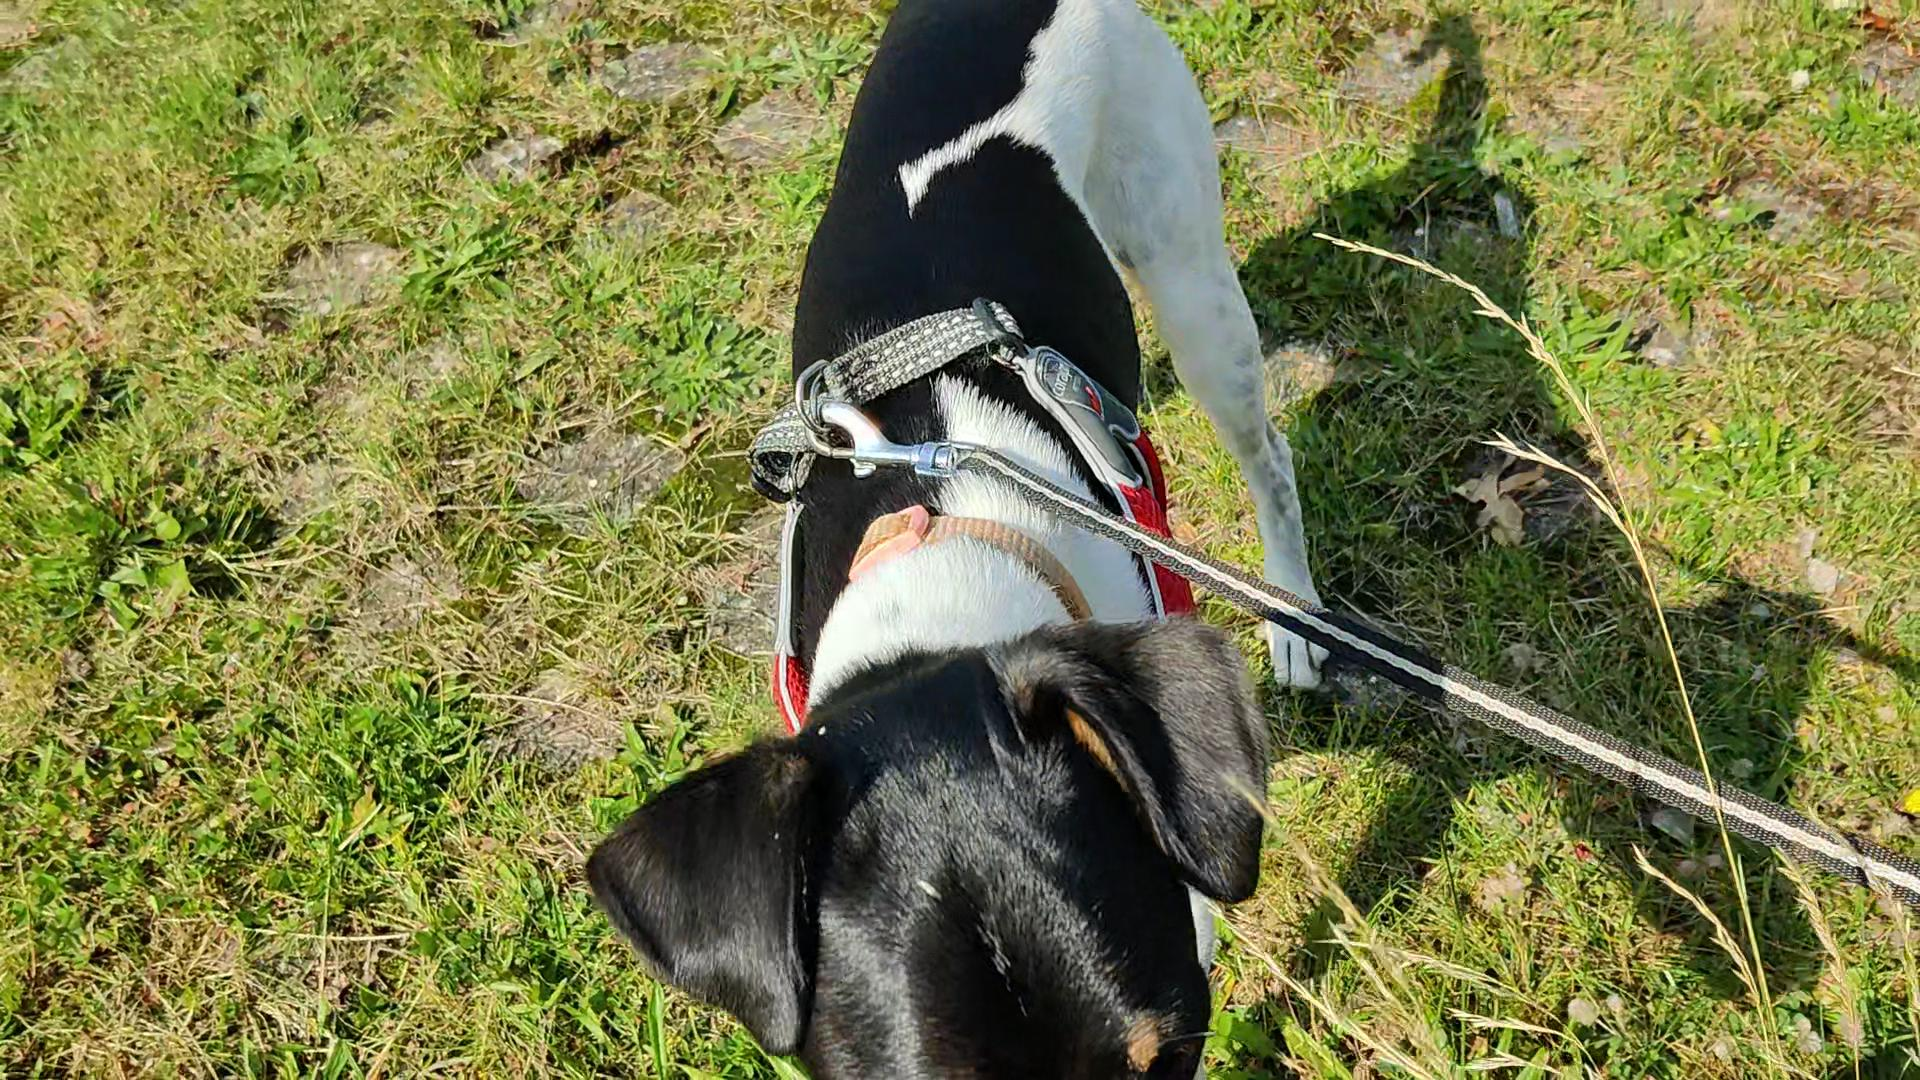Dog: (541, 0, 1360, 1079)
